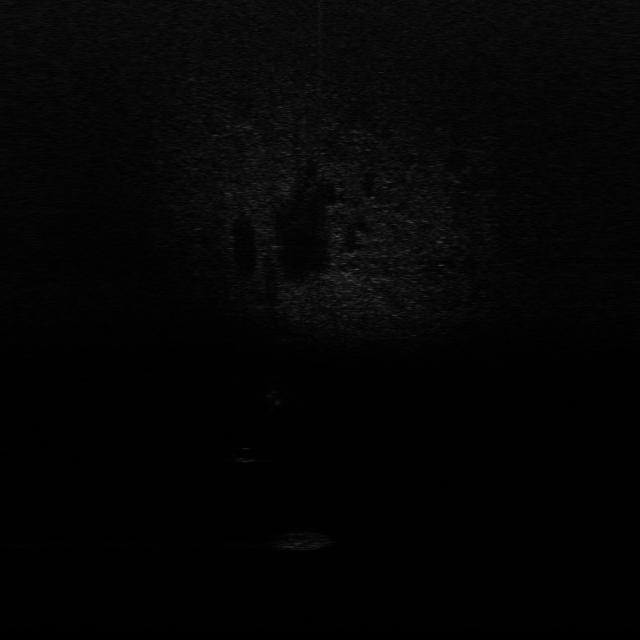ball: (232, 442, 263, 467)
circle cage: (270, 526, 336, 553)
human body: (260, 373, 290, 422)
